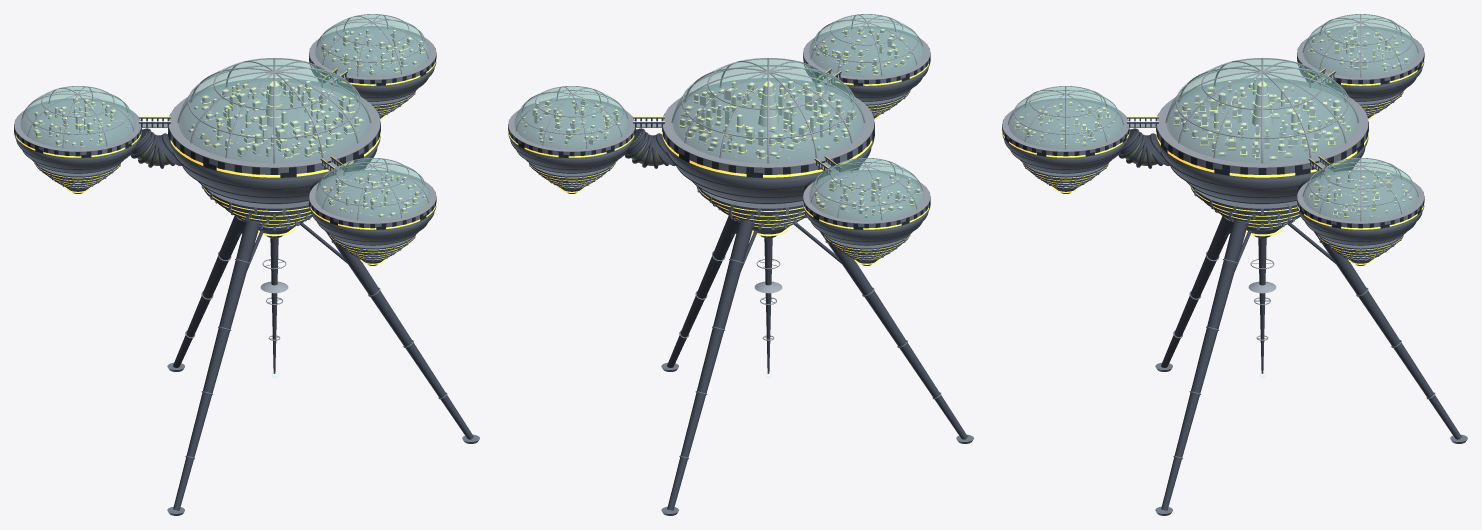
File: citadel.glb
3 renders of one model, left to right at view 1: azimuth 30°, elevation 25°; view 2: azimuth 150°, elevation 25°; view 3: azimuth 270°, elevation 25°, orthographic.
Parts seen in each view (by area): view 1: main dome, main collar, pod 2 dome, pod 1 dome, pod 3 dome, pod 1 collar, pod 2 collar, pod 3 collar, leg 2, main hull, main (×2), leg 1 (+11 smaller); view 2: main dome, main collar, pod 2 dome, pod 3 dome, pod 1 dome, pod 2 collar, pod 3 collar, pod 1 collar, leg 3, main hull, main (×2), leg 2 (+11 smaller); view 3: main dome, main collar, pod 1 collar, pod 1 dome, pod 3 dome, pod 2 dome, pod 3 collar, pod 2 collar, leg 1, main hull, main (×2), leg 3 (+11 smaller).
Part boxes in pixels (bbox=[...]): main dome: bbox=[178, 59, 370, 162]; main collar: bbox=[168, 78, 380, 181]; pod 2 dome: bbox=[20, 86, 135, 148]; pod 1 dome: bbox=[315, 158, 429, 220]; pod 3 dome: bbox=[315, 14, 429, 76]; pod 1 collar: bbox=[309, 170, 436, 231]; pod 2 collar: bbox=[14, 98, 141, 159]; pod 3 collar: bbox=[309, 26, 436, 88]; leg 2: bbox=[173, 221, 259, 510]; main hull: bbox=[173, 149, 376, 204]; main (×2): bbox=[168, 77, 380, 174]; leg 1: bbox=[325, 231, 473, 439]; main dome: bbox=[672, 59, 864, 162]; main collar: bbox=[662, 78, 874, 181]; pod 2 dome: bbox=[809, 158, 923, 220]; pod 3 dome: bbox=[514, 86, 629, 148]; pod 1 dome: bbox=[809, 14, 923, 76]; pod 2 collar: bbox=[803, 170, 930, 231]; pod 3 collar: bbox=[508, 98, 635, 159]; pod 1 collar: bbox=[803, 26, 930, 88]; leg 3: bbox=[667, 221, 753, 510]; main hull: bbox=[667, 149, 870, 204]; main (×2): bbox=[662, 81, 874, 174]; leg 2: bbox=[819, 231, 967, 439]; main dome: bbox=[1166, 59, 1358, 162]; main collar: bbox=[1156, 78, 1368, 181]; pod 1 collar: bbox=[1002, 98, 1129, 159]; pod 1 dome: bbox=[1008, 86, 1123, 148]; pod 3 dome: bbox=[1303, 158, 1417, 220]; pod 2 dome: bbox=[1303, 14, 1417, 76]; pod 3 collar: bbox=[1297, 170, 1424, 231]; pod 2 collar: bbox=[1297, 26, 1424, 88]; leg 1: bbox=[1161, 221, 1247, 510]; main hull: bbox=[1161, 150, 1363, 204]; main (×2): bbox=[1156, 78, 1368, 174]; leg 3: bbox=[1313, 231, 1461, 439].
Bounding box in the file's own units: 36920 × 32146 × 36737.
